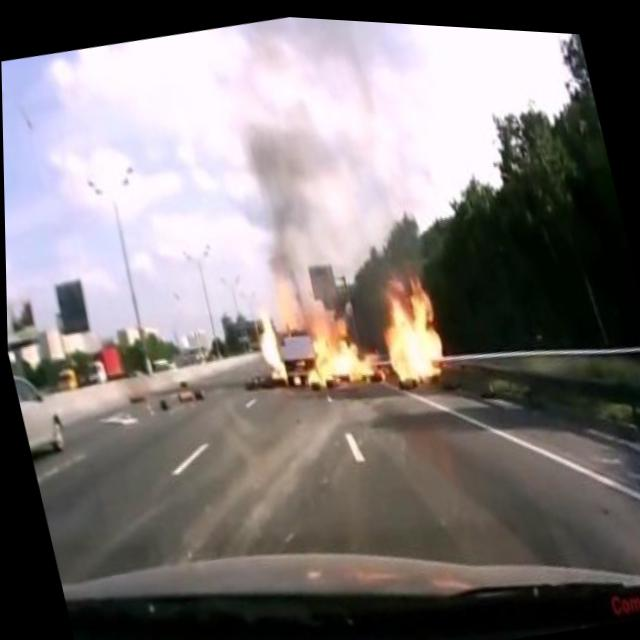fire: (282, 249, 453, 405), (246, 296, 290, 387)
